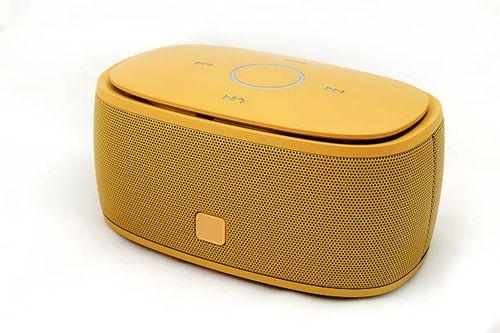speaker: (92, 44, 446, 300)
